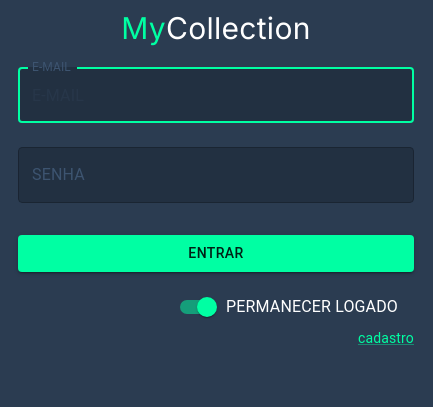
Scenario: Verifica erro quando senha não é preenchida
The image size is (433, 407).
Click the button: (216, 253) x1=18 y1=235 x2=414 y2=272
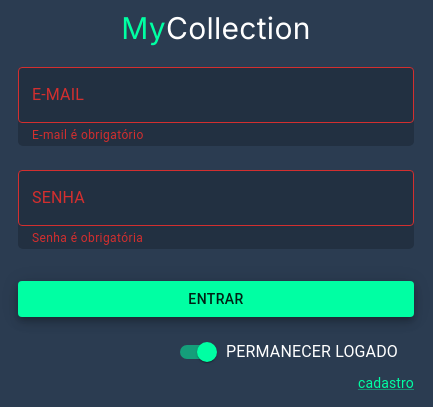
Check: the text "Senha é obrigatória" is shown, box x1=32 y1=231 x2=143 y2=245
